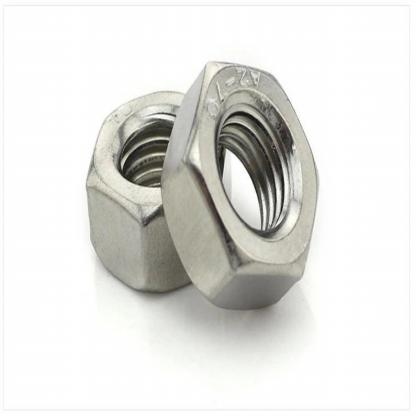FOD: (159, 59, 322, 315), (82, 86, 236, 291)
